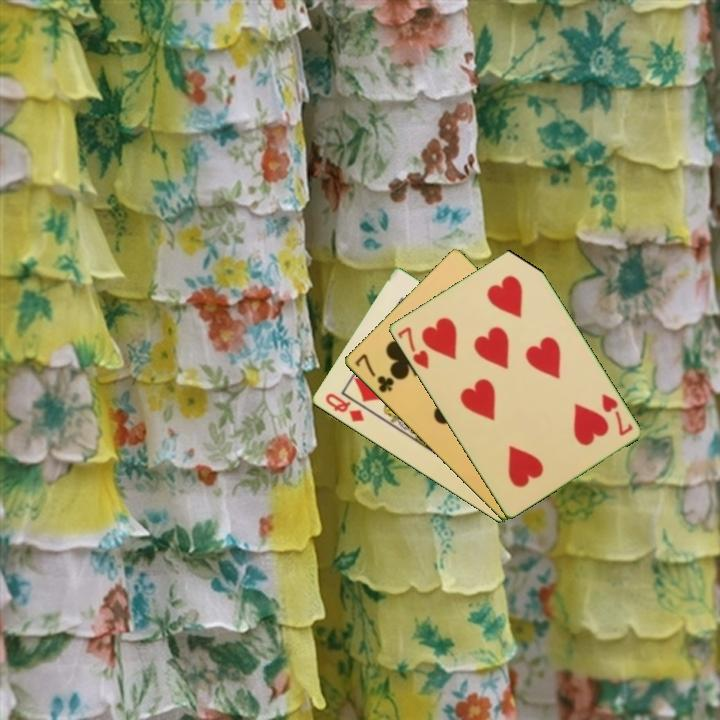7c: (351, 350, 397, 396)
7h: (393, 323, 431, 372), (598, 390, 636, 439)
Qd: (321, 389, 367, 425)
